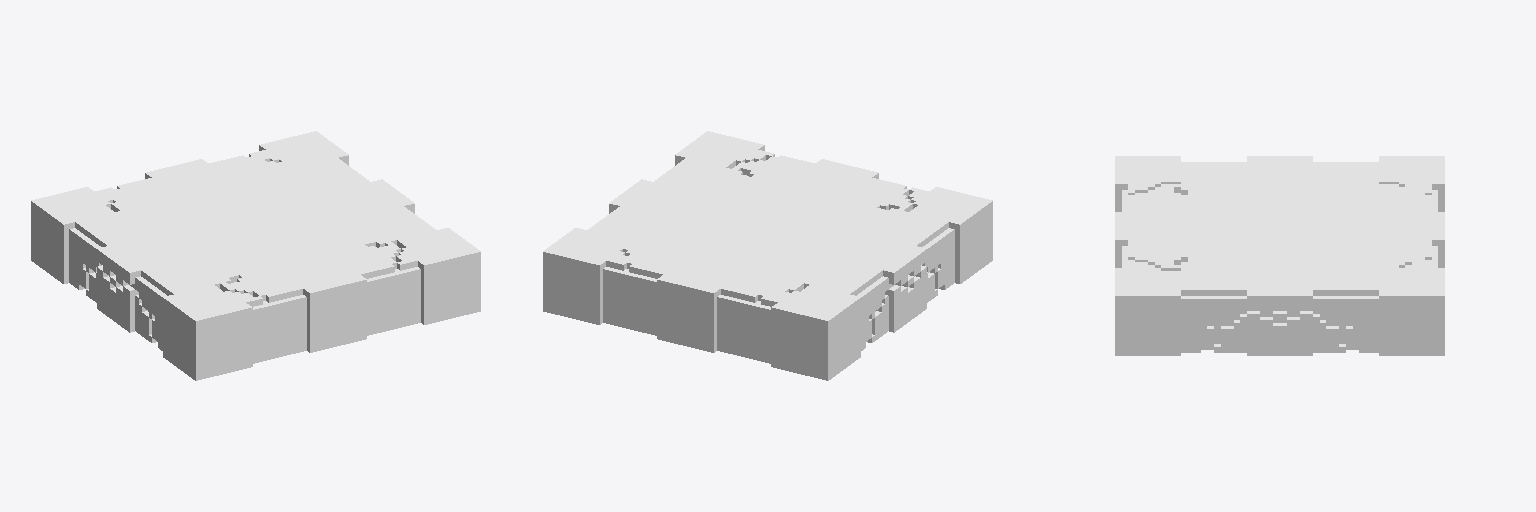
File: vox-25-Floor_Boss.obj
3 views of the same model, side by side, from view 1: azimuth 30°, elevation 25°; view 2: azimuth 150°, elevation 25°; view 3: azimuth 270°, elevation 25° (orthographic).
Visible parts, largest first — view 1: Floor_Boss; view 2: Floor_Boss; view 3: Floor_Boss.
Boxes of the visible parts, x1,y1,x2,y2 form: Floor_Boss: [31, 131, 480, 380]; Floor_Boss: [543, 131, 992, 380]; Floor_Boss: [1115, 156, 1444, 355].
Size of the model in its own units: 5 by 1 by 5.